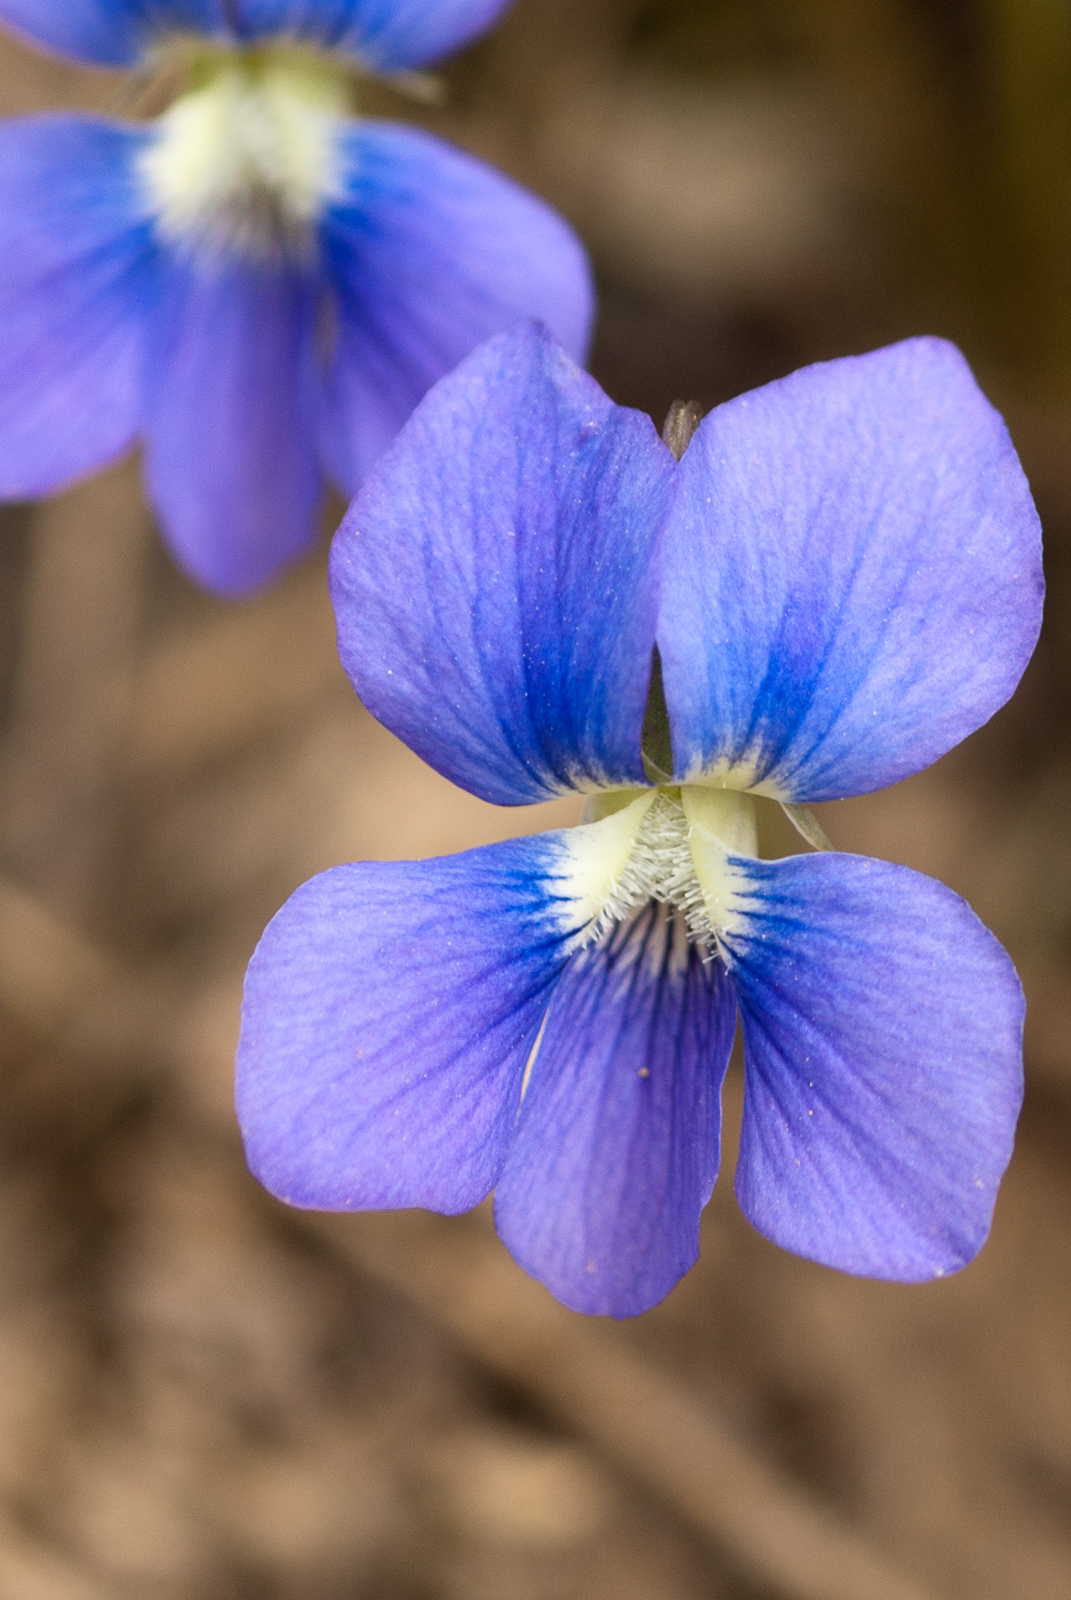violet: (279, 315, 1049, 1379)
